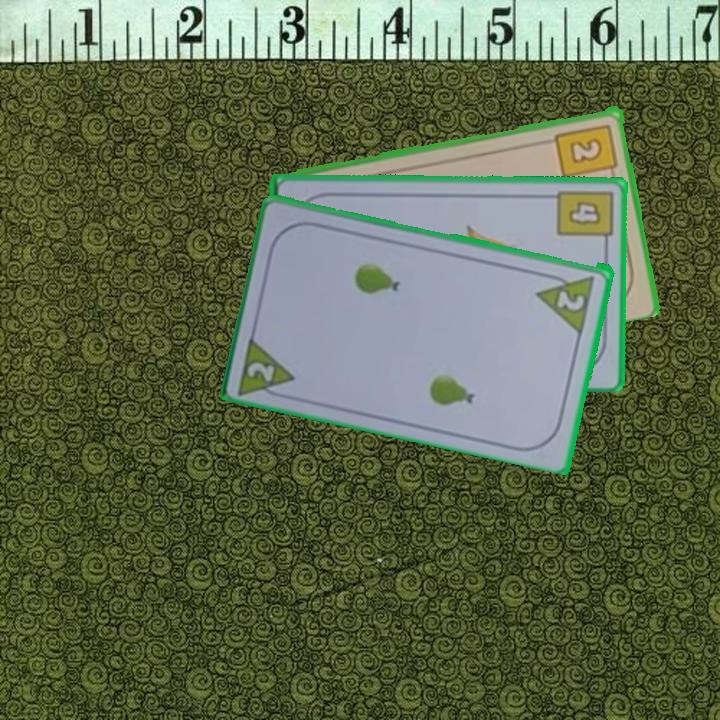2b: (552, 120, 621, 181)
2p: (534, 268, 598, 334), (244, 357, 278, 384)
4b: (554, 186, 615, 250)
